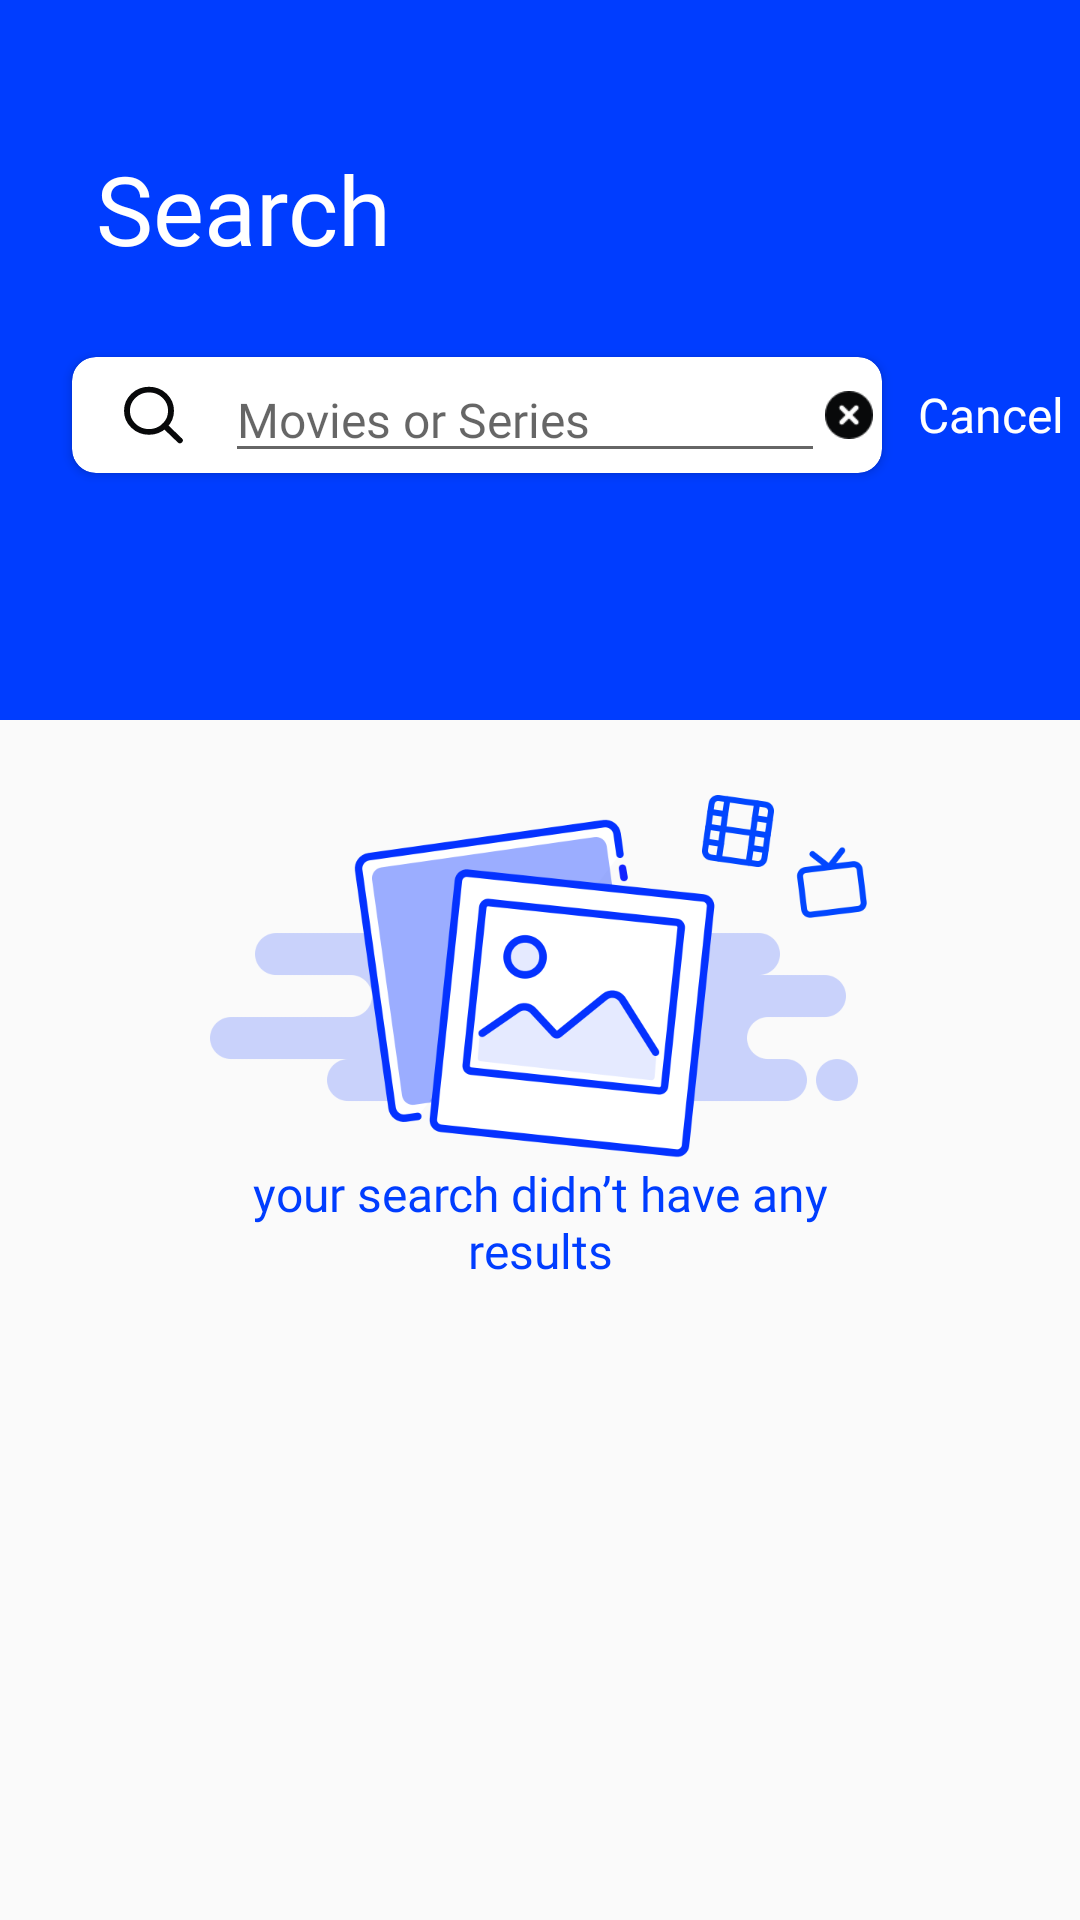

Where to tap for icons on this 1080 x 1920 app screen, as (x=x, y=y):
close: (x=849, y=415)
